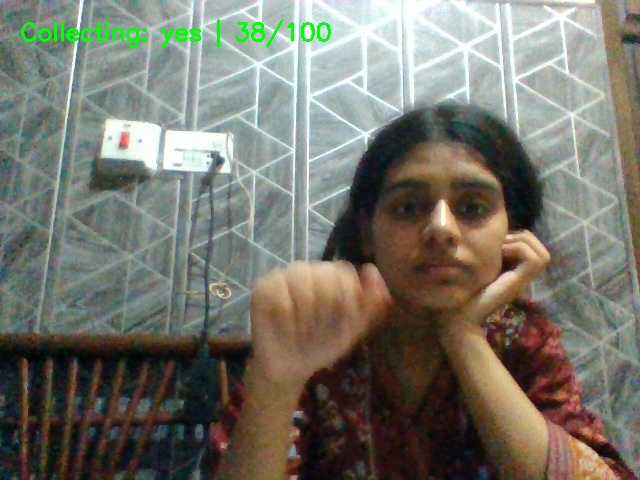yes: (239, 239, 405, 409)
